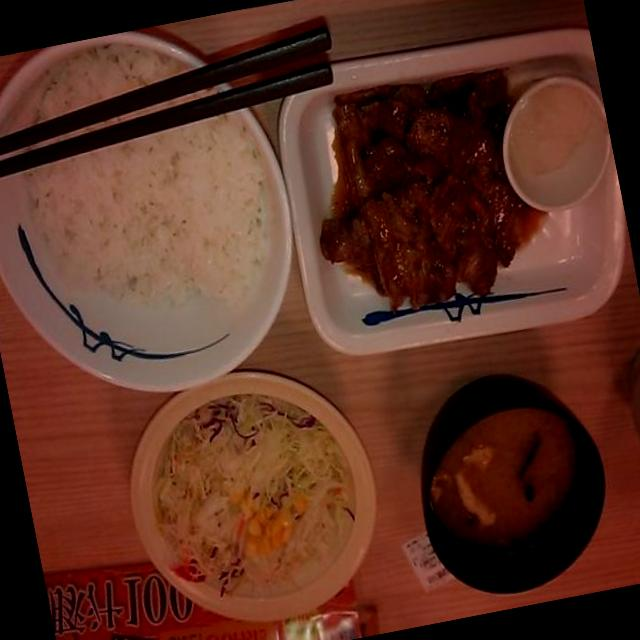Rice: (16, 46, 295, 359)
